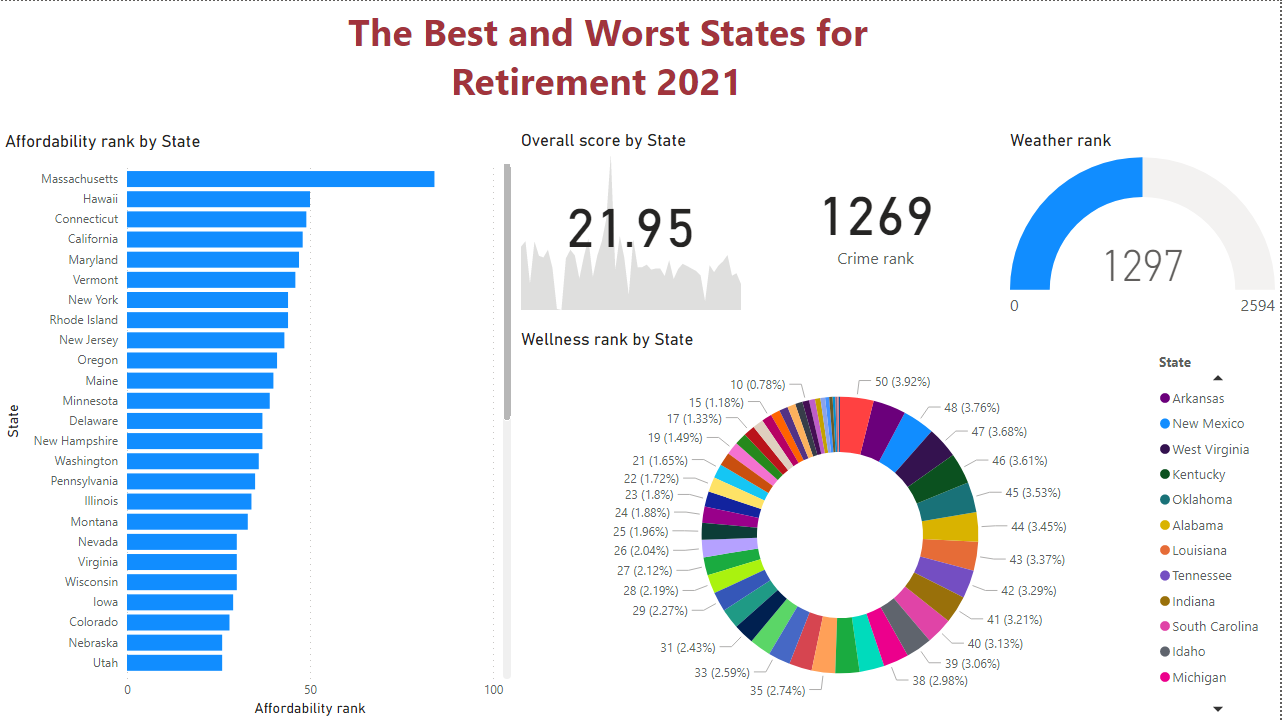

The dashboard page shown, as its layout file describes it:
{"tool":"powerbi","page":{"name":"Page 1","canvas":[1280,720],"ordinal":0},"visuals":[{"type":"barChart","fields":{"Category":["Best States to Retire.State"],"Y":["Sum(Best States to Retire.Affordability rank)"]},"box":[0,129.3,515.7,591.3],"z":0},{"type":"donutChart","fields":{"Category":["Best States to Retire.State"],"Y":["Sum(Best States to Retire.Wellness rank)"]},"box":[515.7,327.6,764.3,393.1],"z":1},{"type":"gauge","fields":{"Y":["Sum(Best States to Retire.Weather rank)"]},"box":[1004.5,129.3,275.5,198.2],"z":2},{"type":"card","fields":{"Values":["Sum(Best States to Retire.Crime rank)"]},"box":[745.8,109.2,258.7,218.4],"z":3},{"type":"textbox","box":[271.4,0,732.9,130],"z":4},{"type":"kpi","fields":{"TrendLine":["Best States to Retire.State"],"Indicator":["Sum(Best States to Retire.Overall score)"]},"box":[515.7,129.3,230.1,184.8],"z":5}]}

Visuals, with their boxes in screenshot pixels (x1, y1, x2, y2), scaled from the page's 1280x720 canvas onto the 1282x720 screenshot:
barChart - Best States to Retire.State x Sum(Best States to Retire.Affordability rank): x1=0 y1=129 x2=517 y2=719
donutChart - Best States to Retire.State x Sum(Best States to Retire.Wellness rank): x1=517 y1=328 x2=1281 y2=719
gauge - Sum(Best States to Retire.Weather rank): x1=1006 y1=129 x2=1281 y2=328
card - Sum(Best States to Retire.Crime rank): x1=747 y1=109 x2=1006 y2=328
textbox: x1=272 y1=0 x2=1006 y2=130
kpi - Best States to Retire.State x Sum(Best States to Retire.Overall score): x1=517 y1=129 x2=747 y2=314
